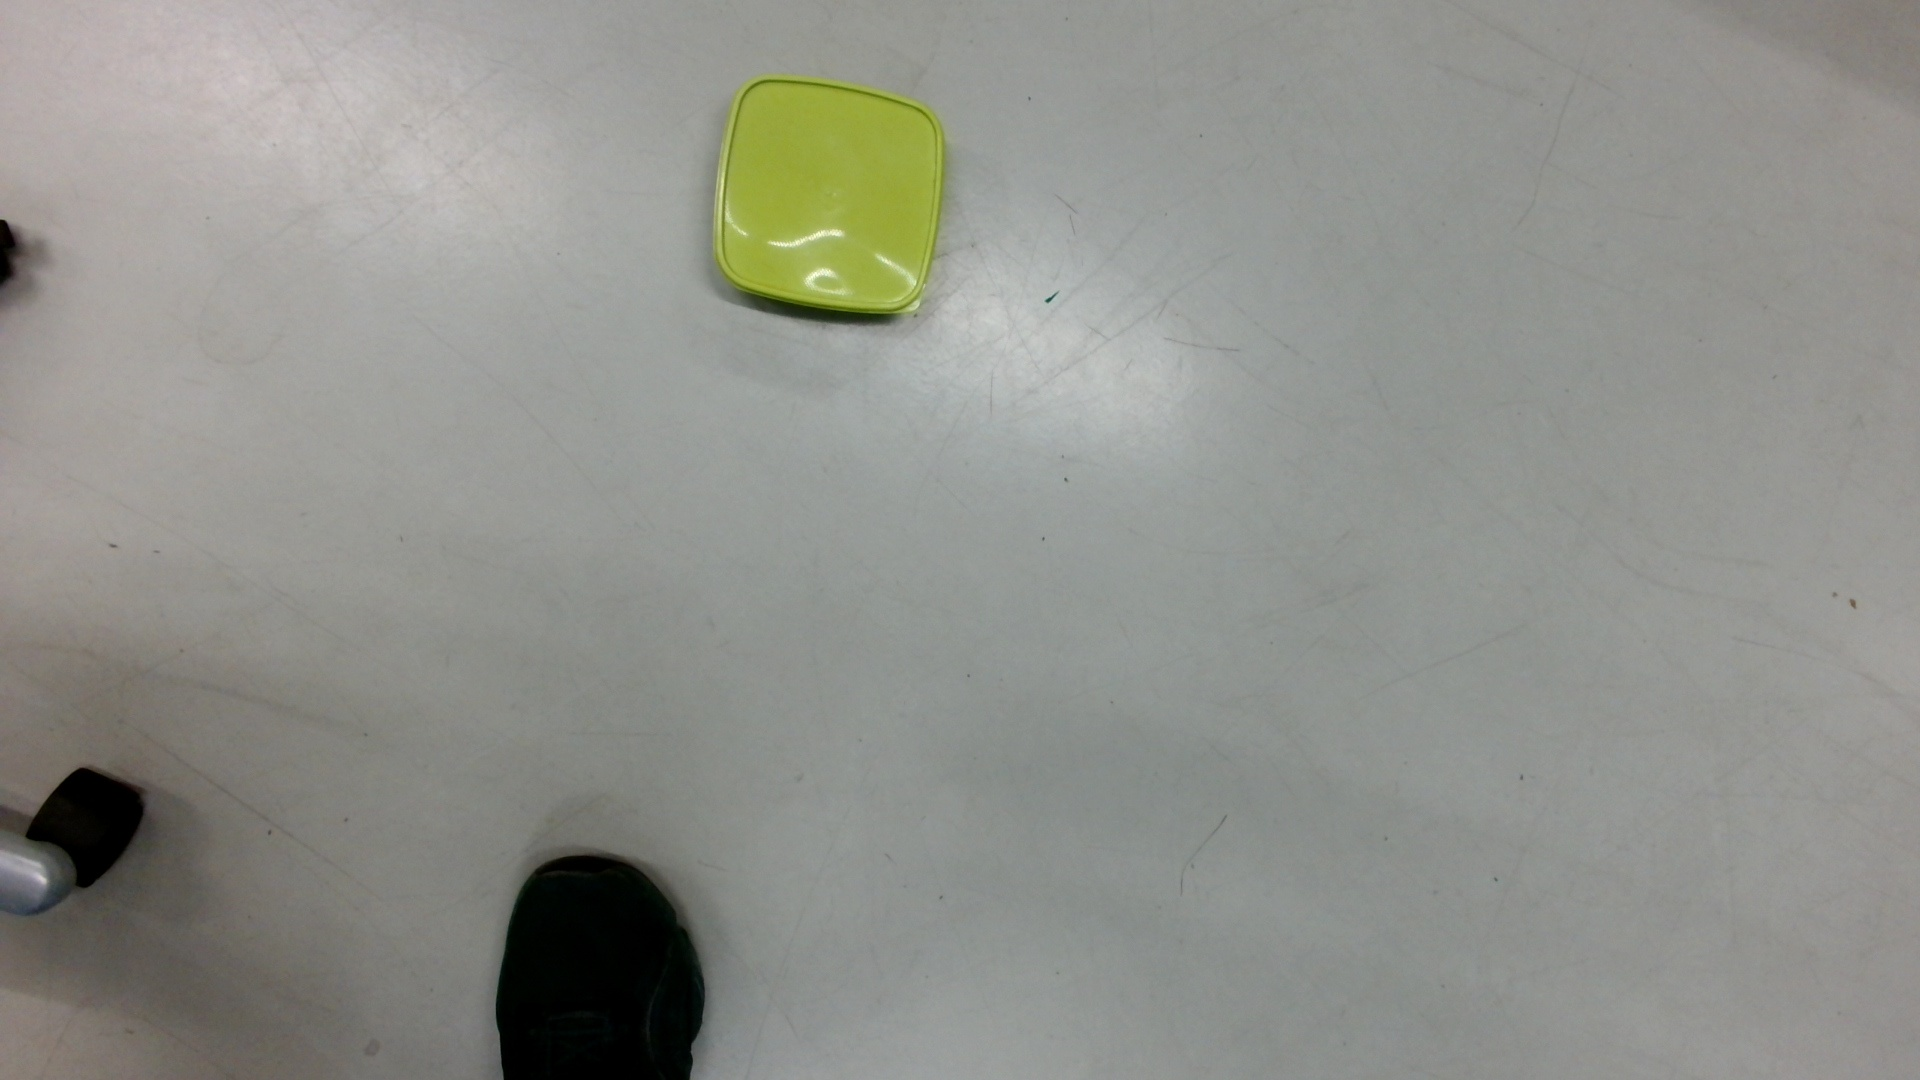Box: (709, 69, 949, 328)
